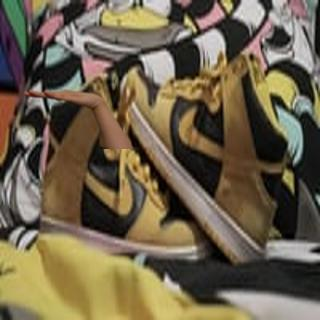WAIT: (18, 81, 106, 112)
